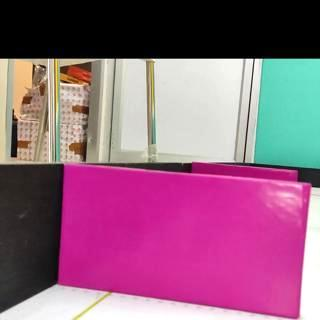xparking: (60, 167, 311, 317), (194, 162, 298, 179)
